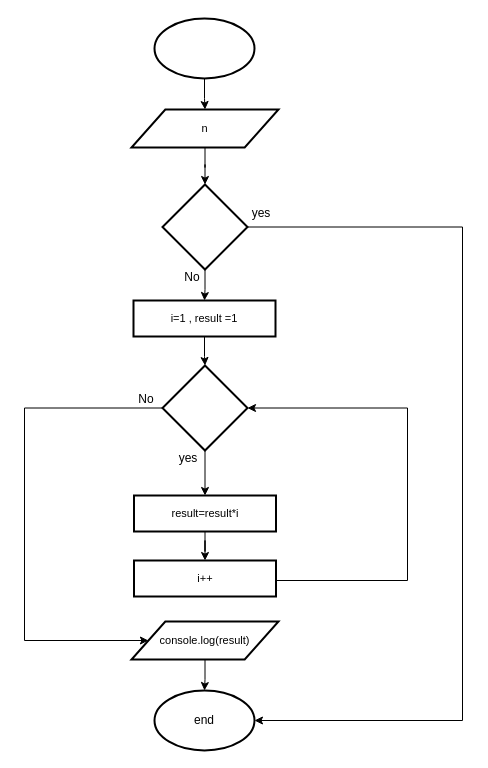
Image size: 488x768. Some labels were removed from this diagram. The centre of each missing label's shape, as x and y in pixels:
"i<=n" belongs at (x=204, y=407).
"n<0" belongs at (x=204, y=226).
"start" belongs at (x=204, y=48).
